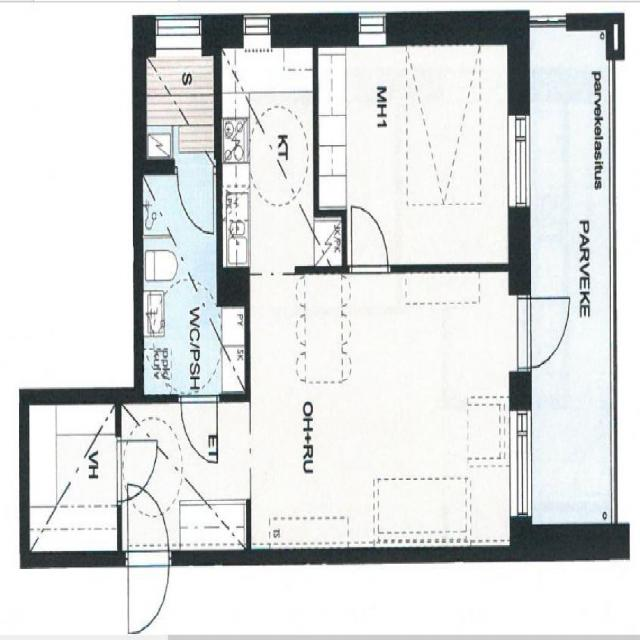door: (509, 298, 573, 368), (128, 482, 169, 565), (128, 550, 169, 632), (178, 159, 214, 234), (181, 394, 217, 464), (117, 440, 158, 501), (352, 207, 388, 273)
